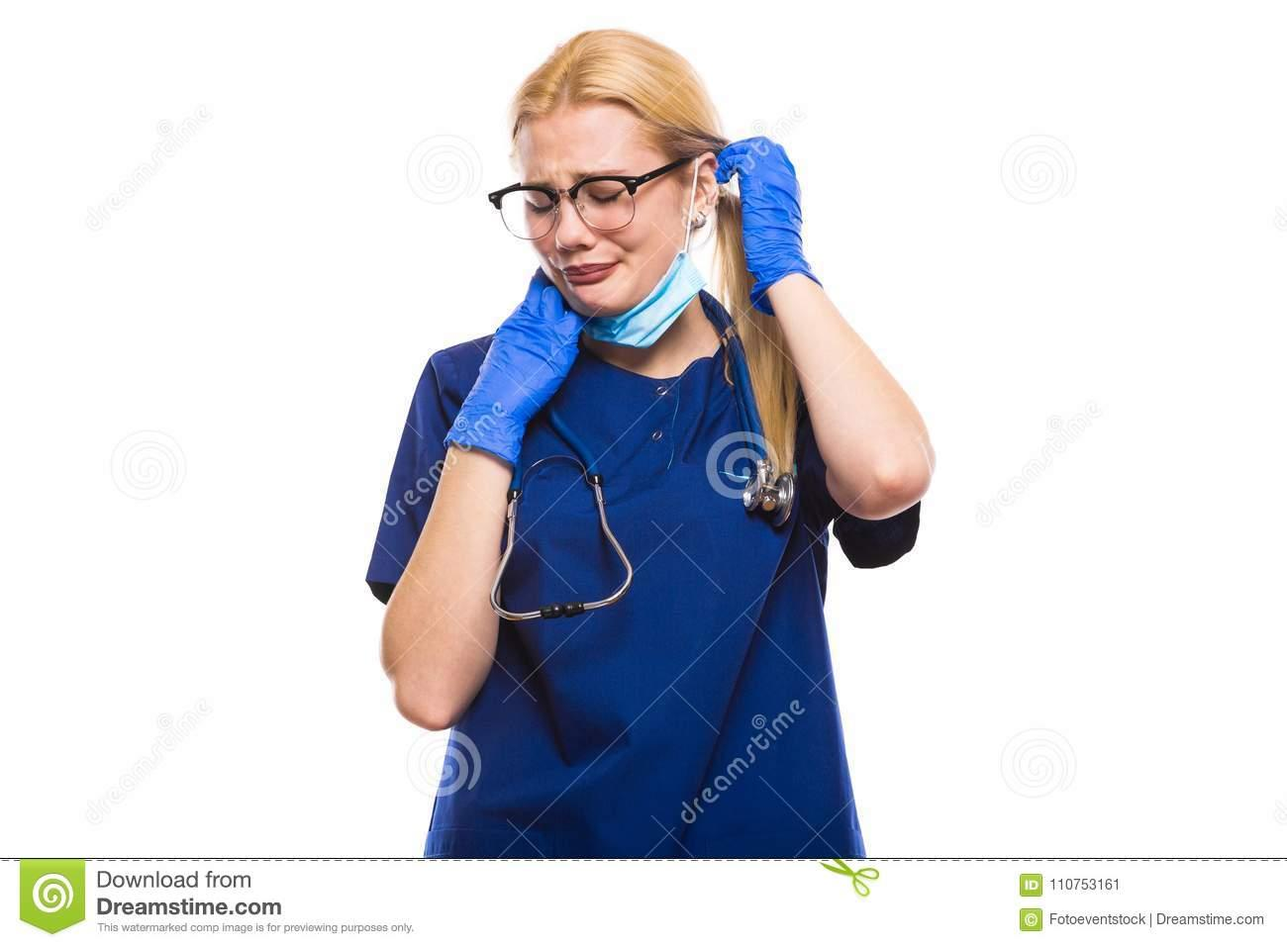Wore Mask Incorrectly: (474, 42, 804, 410)
